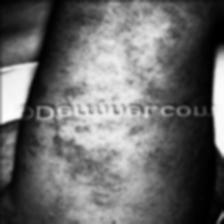Non-Cancerous Skin Condition: (54, 0, 199, 104), (48, 122, 142, 206)
